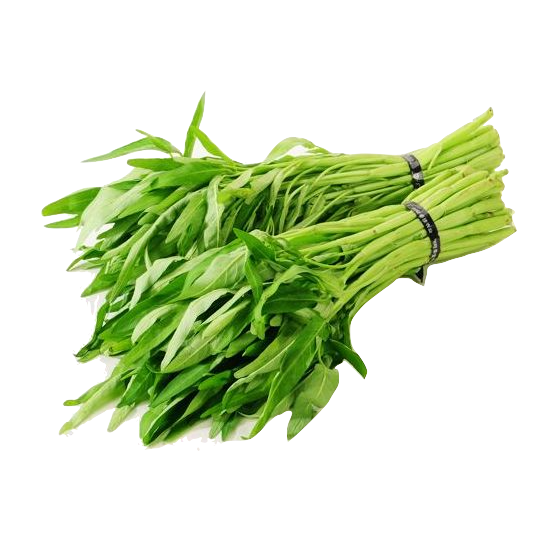Kangkung: (15, 98, 518, 475)
